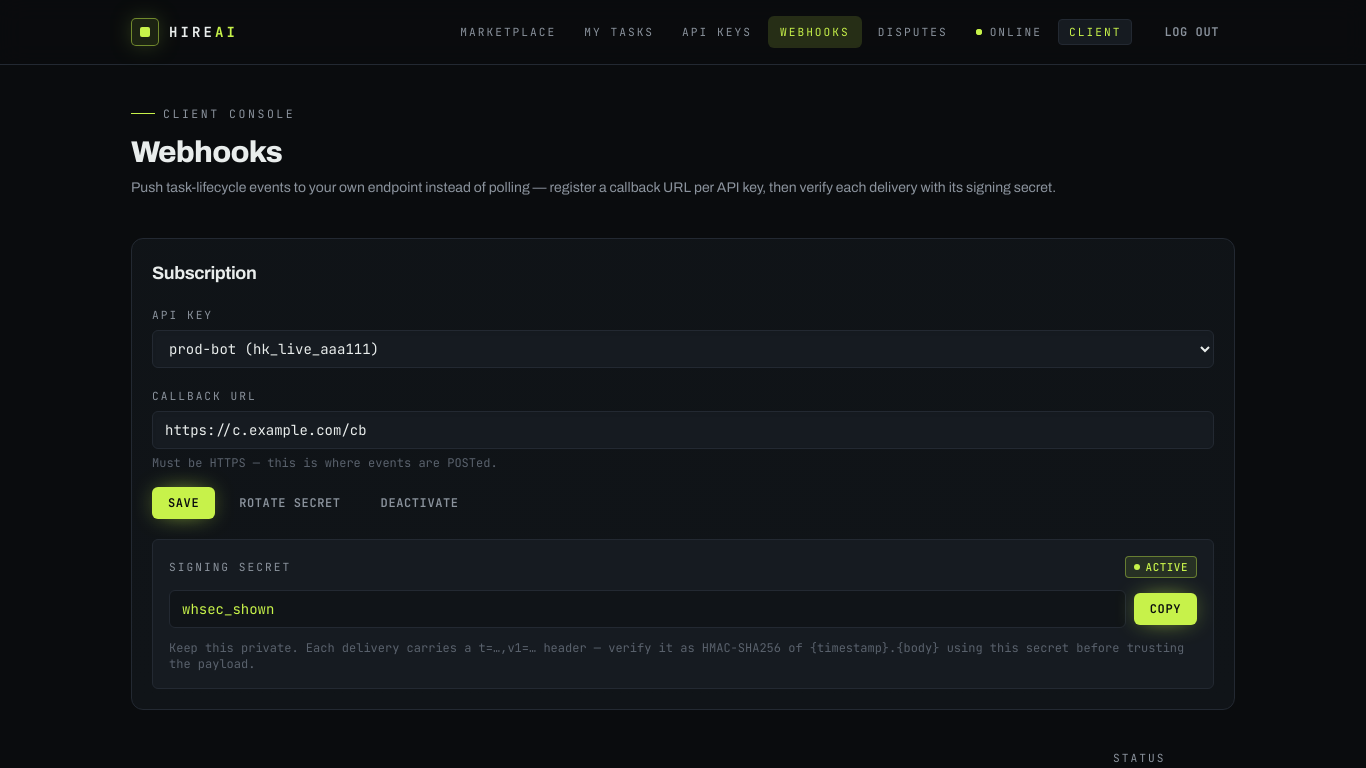
WebhooksPage › deactivate posts to deactivate and the subscription shows Inactive
Check: the text "Active" is shown, box [1125,556,1197,578]
Click the button "Deactivate": (420, 503) [365,487,475,519]
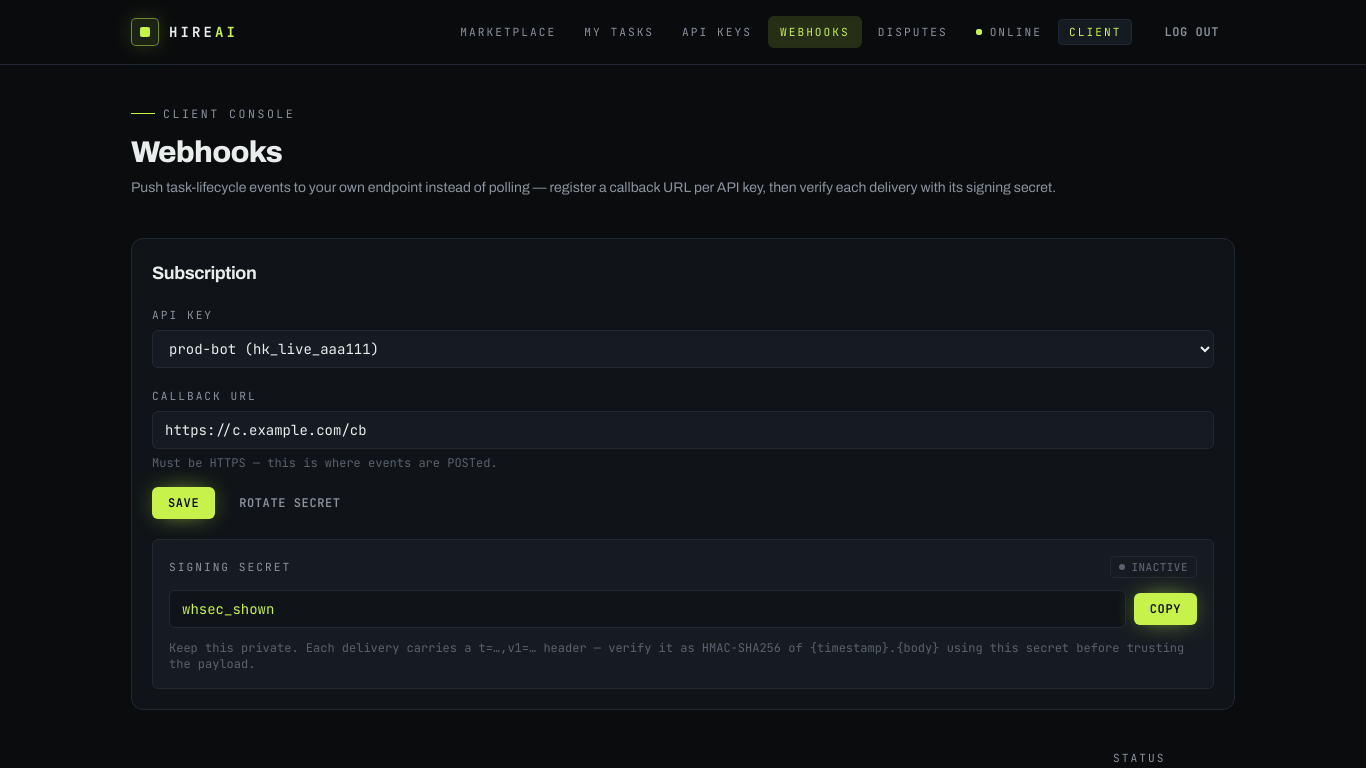
Check: the text "Inactive" is shown, box [1110,556,1197,578]
Check: the button "Deactivate" is gone
